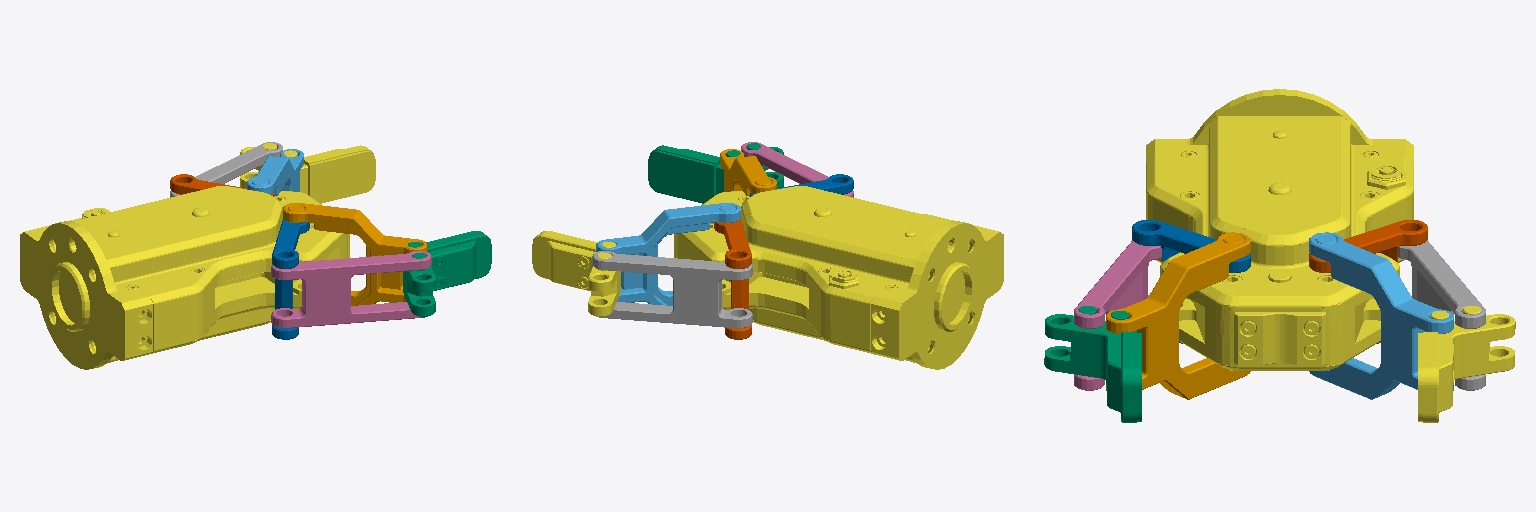
The robot description file, URDF, robot "A02L-MP":
<?xml version="1.0"?>
<!-- ======================================================================== -->
<!-- | Flexiv Rizon4 Arm (with approximated dynamic parameters)             | -->
<!-- ======================================================================== -->
<robot name="A02L-MP">
  <joint name="joint0" type="fixed">
    <origin rpy="0 0 0" xyz="0 0 0" />
    <parent link="world" />
    <child link="base_link" />
  </joint>
  <joint name="joint1" type="revolute">
    <parent link="base_link" />
    <child link="link1" />
    <origin rpy="0 0 3.141592653589793" xyz="0.0 0.0 0.155" />
    <axis xyz="0 0 1" />
    <limit effort="123" lower="-2.7925" upper="2.7925" velocity="2.0944" />
  </joint>
  <joint name="joint2" type="revolute">
    <parent link="link1" />
    <child link="link2" />
    <origin rpy="0 0 0" xyz="0.0 0.03 0.210" />
    <axis xyz="0 1 0" />
    <limit effort="123" lower="-2.2689" upper="2.2689" velocity="2.0944" />
  </joint>
  <joint name="joint3" type="revolute">
    <parent link="link2" />
    <child link="link3" />
    <origin rpy="0 0 0" xyz="0.0 0.035 0.205" />
    <axis xyz="0 0 1" />
    <limit effort="64" lower="-2.9671" upper="2.9671" velocity="2.4435" />
  </joint>
  <joint name="joint4" type="revolute">
    <parent link="link3" />
    <child link="link4" />
    <origin rpy="0 0 -3.141592653589793" xyz="-0.02 -0.03 0.19" />
    <axis xyz="0 1 0" />
    <limit effort="64" lower="-1.8675" upper="2.6878" velocity="2.4435" />
  </joint>
  <joint name="joint5" type="revolute">
    <parent link="link4" />
    <child link="link5" />
    <origin rpy="0 0 -3.141592653589793" xyz="-0.02 0.025 0.195" />
    <axis xyz="0 0 1" />
    <limit effort="39" lower="-2.9671" upper="2.9671" velocity="4.8869" />
  </joint>
  <joint name="joint6" type="revolute">
    <parent link="link5" />
    <child link="link6" />
    <origin rpy="0 0 0" xyz="0.0 0.03 0.19" />
    <axis xyz="0 1 0" />
    <limit effort="39" lower="-1.3963" upper="4.5379" velocity="4.8869" />
  </joint>
  <joint name="joint7" type="revolute">
    <parent link="link6" />
    <child link="link7" />
    <origin rpy="0 -1.5707963267948966 0" xyz="-0.055 0.070 0.11" />
    <axis xyz="0 0 1" />
    <limit effort="39" lower="-2.9671" upper="2.9671" velocity="4.8869" />
  </joint>
  <joint name="link7_to_flange" type="fixed">
    <parent link="link7" />
    <child link="flange" />
    <origin rpy="0 0 -3.141592653589793" xyz="0.0 0.0 0.081" />
  </joint>

  <link name="world" />
  <link name="base_link">
    <inertial>
      <mass value="3.7" />
      <origin rpy="0 0 0" xyz="0.0 -0.0 0.09" />
      <inertia ixx="0.019" ixy="0.0" ixz="0.0" iyy="0.02" iyz="0.0" izz="0.009" />
    </inertial>
    <visual>
      <origin rpy="0 0 0" xyz="0 0 0" />
      <geometry>
        <mesh filename="package://flexiv_meshes/visual/link0.stl" />
      </geometry>
      <material name="rizon_light_grey" />
    </visual>
    <collision>
      <origin rpy="0 0 0" xyz="0 0 0" />
      <geometry>
        <mesh filename="package://flexiv_meshes/collision/link0.stl" />
      </geometry>
    </collision>
  </link>
  <link name="link1">
    <inertial>
      <mass value="3.7" />
      <origin rpy="0 0 0" xyz="0.0 0.01 0.15" />
      <inertia ixx="0.028" ixy="0.0" ixz="0.0" iyy="0.027" iyz="0.002" izz="0.008" />
    </inertial>
    <visual>
      <origin rpy="0 0 0" xyz="0 0 0" />
      <geometry>
        <mesh filename="package://flexiv_meshes/visual/link1.stl" />
      </geometry>
      <material name="rizon_light_grey" />
    </visual>
    <collision>
      <origin rpy="0 0 0" xyz="0 0 0" />
      <geometry>
        <mesh filename="package://flexiv_meshes/collision/link1.stl" />
      </geometry>
    </collision>
  </link>
  <link name="link2">
    <inertial>
      <mass value="2.7" />
      <origin rpy="0 0 0" xyz="0.0 0.04 0.1" />
      <inertia ixx="0.023" ixy="0.0" ixz="0.0" iyy="0.024" iyz="-0.0" izz="0.004" />
    </inertial>
    <visual>
      <origin rpy="0 0 0" xyz="0 0 0" />
      <geometry>
        <mesh filename="package://flexiv_meshes/visual/link2.stl" />
      </geometry>
      <material name="rizon_light_grey" />
    </visual>
    <collision>
      <origin rpy="0 0 0" xyz="0 0 0" />
      <geometry>
        <mesh filename="package://flexiv_meshes/collision/link2.stl" />
      </geometry>
    </collision>
  </link>
  <link name="link3">
    <inertial>
      <mass value="2.4" />
      <origin rpy="0 0 0" xyz="-0.01 -0.0 0.13" />
      <inertia ixx="0.014" ixy="0.0" ixz="-0.001" iyy="0.014" iyz="-0.001" izz="0.004" />
    </inertial>
    <visual>
      <origin rpy="0 0 0" xyz="0 0 0" />
      <geometry>
        <mesh filename="package://flexiv_meshes/visual/link3.stl" />
      </geometry>
      <material name="rizon_light_grey" />
    </visual>
    <collision>
      <origin rpy="0 0 0" xyz="0 0 0" />
      <geometry>
        <mesh filename="package://flexiv_meshes/collision/link3.stl" />
      </geometry>
    </collision>
  </link>
  <link name="link4">
    <inertial>
      <mass value="2.4" />
      <origin rpy="0 0 0" xyz="-0.01 0.03 0.1" />
      <inertia ixx="0.018" ixy="0.0" ixz="-0.002" iyy="0.019" iyz="-0.001" izz="0.003" />
    </inertial>
    <visual>
      <origin rpy="0 0 0" xyz="0 0 0" />
      <geometry>
        <mesh filename="package://flexiv_meshes/visual/link4.stl" />
      </geometry>
      <material name="rizon_light_grey" />
    </visual>
    <collision>
      <origin rpy="0 0 0" xyz="0 0 0" />
      <geometry>
        <mesh filename="package://flexiv_meshes/collision/link4.stl" />
      </geometry>
    </collision>
  </link>
  <link name="link5">
    <inertial>
      <mass value="2.4" />
      <origin rpy="0 0 0" xyz="0.0 0.0 0.13" />
      <inertia ixx="0.014" ixy="0.0" ixz="0.0" iyy="0.013" iyz="0.001" izz="0.004" />
    </inertial>
    <visual>
      <origin rpy="0 0 0" xyz="0 0 0" />
      <geometry>
        <mesh filename="package://flexiv_meshes/visual/link5.stl" />
      </geometry>
      <material name="rizon_light_grey" />
    </visual>
    <collision>
      <origin rpy="0 0 0" xyz="0 0 0" />
      <geometry>
        <mesh filename="package://flexiv_meshes/collision/link5.stl" />
      </geometry>
    </collision>
  </link>
  <link name="link6">
    <inertial>
      <mass value="2.1" />
      <origin rpy="0 0 0" xyz="-0.01 0.06 0.07" />
      <inertia ixx="0.008" ixy="-0.0" ixz="-0.001" iyy="0.009" iyz="0.002" izz="0.004" />
    </inertial>
    <visual>
      <origin rpy="0 0 0" xyz="0 0 0" />
      <geometry>
        <mesh filename="package://flexiv_meshes/visual/link6.stl" />
      </geometry>
      <material name="rizon_light_grey" />
    </visual>
    <collision>
      <origin rpy="0 0 0" xyz="0 0 0" />
      <geometry>
        <mesh filename="package://flexiv_meshes/collision/link6.stl" />
      </geometry>
    </collision>
  </link>
  <link name="link7">
    <inertial>
      <mass value="0.8" />
      <origin rpy="0 0 0" xyz="0.0 0.0 0.03" />
      <inertia ixx="0.001" ixy="0.0" ixz="0.0" iyy="0.001" iyz="0.0" izz="0.001" />
    </inertial>
    <visual>
      <origin rpy="0 0 0" xyz="0 0 0" />
      <geometry>
        <mesh filename="package://flexiv_meshes/visual/link7.stl" />
      </geometry>
      <material name="rizon_light_grey" />
    </visual>
    <collision>
      <origin rpy="0 0 0" xyz="0 0 0" />
      <geometry>
        <mesh filename="package://flexiv_meshes/collision/link7.stl" />
      </geometry>
    </collision>
  </link>
  <link name="flange" />
  <joint name="flange_fixed" type="fixed">
        <origin rpy="0 0 1.5707" xyz="0 0 0" />
        <parent link="flange" />
        <child link="gripper_root_link" />
  </joint>
	<link name="gripper_root_link" />
	<joint name="rightgripper_base_joint" type="fixed">
	<parent link="gripper_root_link" />
	<child link="rightgripper_base_link" />
	<origin rpy="0 0 0" xyz="0 0 0" />
	</joint>
	<link name="rightgripper_base_link">
	<visual>
	    <geometry>
		<mesh filename="package://DH_gripper_meshes/dhag95/visual/base_link.STL" scale="0.001 0.001 0.001" />
	    </geometry>
	</visual>
	<collision>
	    <geometry>
		<mesh filename="package://DH_gripper_meshes/dhag95/visual/base_link.STL" scale="0.001 0.001 0.001" />
	    </geometry>
	</collision>
	<inertial>
	    <mass value="0.83416" />
	    <origin xyz="0.0 0.0 0.0" rpy="0 0 0" />
	    <inertia ixx="0.0013016" ixy="-6.9374e-07" ixz="5.9848e-07" iyx="0.000000" iyy="0.00049972" iyz="2.0244E-07" izx="0.000000" izy="0.000000" izz="0.001498" />
	</inertial>
	</link>

	<joint name="rightgripper_finger1_joint" type="revolute">
	<parent link="rightgripper_base_link" />
	<child link="rightgripper_finger1_knuckle_link" />
	<axis xyz="0 -1 0" />
	<origin rpy="0.0 0.0 3.141592653589793" xyz="-0.016 0 0.10586" />
	<limit effort="1000" lower="0.0" upper="0.65" velocity="2.0" />
	</joint>
	<joint name="rightgripper_finger2_joint" type="revolute">
	<parent link="rightgripper_base_link" />
	<child link="rightgripper_finger2_knuckle_link" />
	<axis xyz="0 -1 0" />
	<origin rpy="0.0 0.0 0.0" xyz="0.016  0 0.10586 " />
	<limit effort="1000" lower="-3.14" upper="3.14" velocity="100.0" />
	<mimic joint="rightgripper_finger1_joint" />
	</joint>
	<link name="rightgripper_finger1_knuckle_link">
	<visual>
	    <geometry>
		<mesh filename="package://DH_gripper_meshes/dhag95/visual/crank_Link.STL" scale="0.001 0.001 0.001" />
	    </geometry>
	</visual>
	<collision>
	    <geometry>
		<mesh filename="package://DH_gripper_meshes/dhag95/visual/crank_Link.STL" scale="0.001 0.001 0.001" />
	    </geometry>
	</collision>
	<inertial>
	    <mass value="0.011111" />
	    <origin xyz="0.0 0.0 0.0" rpy="0 0 0" />
	    <inertia ixx="3.88172e-06" ixy="-2.29456e-13" ixz="8.33e-07" iyx="0.000000" iyy="1.92174e-06" iyz="2.04435e-13" izx="0.000000" izy="0.000000" izz="4.32374e-06" />
	</inertial>
	</link>

	<link name="rightgripper_finger2_knuckle_link">
	<visual>
	    <geometry>
		<mesh filename="package://DH_gripper_meshes/dhag95/visual/crank_Link.STL" scale="0.001 0.001 0.001" />
	    </geometry>
	</visual>
	<collision>
	    <geometry>
		<mesh filename="package://DH_gripper_meshes/dhag95/visual/crank_Link.STL" scale="0.001 0.001 0.001" />
	    </geometry>
	</collision>
	<inertial>
	    <mass value="0.011111" />
	    <origin xyz="0.0 0.0 0.0" rpy="0 0 0" />
	    <inertia ixx="3.88172e-06" ixy="-2.29456e-13" ixz="8.33e-07" iyx="0.000000" iyy="1.92174e-06" iyz="2.04435e-13" izx="0.000000" izy="0.000000" izz="4.32374e-06" />
	</inertial>
	</link>

	<joint name="rightgripper_finger1_finger_joint" type="continuous">
	<parent link="rightgripper_finger1_knuckle_link" />
	<child link="rightgripper_finger1_finger_link" />
	<axis xyz="0 -1 0" />
	<origin rpy="0 0 0" xyz="0.0292080077784 0.0 -0.0227132622407" />
	<limit effort="0.1" lower="-3.14" upper="3.14" velocity="100.0" />
	<mimic joint="rightgripper_finger1_joint" multiplier="0.4563942" offset="0" />
	</joint>
	<joint name="rightgripper_finger2_finger_joint" type="continuous">
	<parent link="rightgripper_finger2_knuckle_link" />
	<child link="rightgripper_finger2_finger_link" />
	<axis xyz="0 -1 0" />
	<origin rpy="0 0 0" xyz="0.0292080077784 0.0 -0.0227132622407" />
	<limit effort="0.1" lower="-3.14" upper="3.14" velocity="100.0" />
	<mimic joint="rightgripper_finger1_joint" multiplier="0.4563942" offset="0" />
	</joint>
	<link name="rightgripper_finger1_finger_link">
	<visual>
	    <geometry>
		<mesh filename="package://DH_gripper_meshes/dhag95/visual/rod_Link.STL" scale="0.001 0.001 0.001" />
	    </geometry>
	</visual>
	<collision>
	    <geometry>
		<mesh filename="package://DH_gripper_meshes/dhag95/visual/rod_Link.STL" scale="0.001 0.001 0.001" />
	    </geometry>
	</collision>
	<inertial>
	    <mass value="0.0222871" />
	    <origin xyz="0.0 0.0 0.0" rpy="0 0 0" />
	    <inertia ixx="8.72836e-06" ixy="7.0843e-15" ixz="-2.18833e-06" iyx="-0.000002" iyy="7.26157e-06" iyz="7.6579e-15" izx="0.000000" izy="0.000000" izz="3.3425e-06" />
	</inertial>
	</link>
	<link name="rightgripper_finger2_finger_link">
	<visual>
	    <geometry>
		<mesh filename="package://DH_gripper_meshes/dhag95/visual/rod_Link.STL" scale="0.001 0.001 0.001" />
	    </geometry>
	</visual>
	<collision>
	    <geometry>
		<mesh filename="package://DH_gripper_meshes/dhag95/visual/rod_Link.STL" scale="0.001 0.001 0.001" />
	    </geometry>
	</collision>
	<inertial>
	    <mass value="0.0222871" />
	    <origin xyz="0.0 0.0 0.0" rpy="0 0 0" />
	    <inertia ixx="8.72836e-06" ixy="7.0843e-15" ixz="-2.18833e-06" iyx="-0.000002" iyy="7.26157e-06" iyz="7.6579e-15" izx="0.000000" izy="0.000000" izz="3.3425e-06" />
	</inertial>
	</link>

	<joint name="rightgripper_finger1_inner_knuckle_joint" type="continuous">
	<parent link="rightgripper_base_link" />
	<child link="rightgripper_finger1_inner_knuckle_link" />
	<axis xyz="0 -1 0" />
	<origin rpy="0.0 0.0 3.141592653589793" xyz="-0.016 0 0.10586" />
	<limit effort="0.1" lower="-3.14" upper="3.14" velocity="100.0" />
	<mimic joint="rightgripper_finger1_joint" multiplier="1.49462955" offset="0" />
	</joint>
	<joint name="rightgripper_finger2_inner_knuckle_joint" type="continuous">
	<parent link="rightgripper_base_link" />
	<child link="rightgripper_finger2_inner_knuckle_link" />
	<axis xyz="0 -1 0" />
	<origin rpy="0.0 0.0 0.0" xyz="0.016 0 0.10586" />
	<limit effort="0.1" lower="-3.14" upper="3.14" velocity="100.0" />
	<mimic joint="rightgripper_finger1_joint" multiplier="1.49462955" offset="0" />
	</joint>
	<link name="rightgripper_finger1_inner_knuckle_link">
	<visual>
	    <geometry>
		<mesh filename="package://DH_gripper_meshes/dhag95/visual/proximal_phalanx_Link.STL" scale="0.001 0.001 0.001" />
	    </geometry>
	</visual>
	<collision>
	    <geometry>
		<mesh filename="package://DH_gripper_meshes/dhag95/visual/proximal_phalanx_Link.STL" scale="0.001 0.001 0.001" />
	    </geometry>
	</collision>
	<inertial>
	    <mass value="0.0318004" />
	    <origin xyz="0.0 0.0 0.0" rpy="0 0 0" />
	    <inertia ixx="1.39848e-05" ixy="-9.54763e-15" ixz="-5.01422e-06" iyx="0.000000" iyy="1.04943e-05" iyz="8.94585e-16" izx="0.000000" izy="0.000000" izz="1.36183e-05" />
	</inertial>
	</link>

	<link name="rightgripper_finger2_inner_knuckle_link">
	<visual>
	    <geometry>
		<mesh filename="package://DH_gripper_meshes/dhag95/visual/proximal_phalanx_Link.STL" scale="0.001 0.001 0.001" />
	    </geometry>
	</visual>
	<collision>
	    <geometry>
		<mesh filename="package://DH_gripper_meshes/dhag95/visual/proximal_phalanx_Link.STL" scale="0.001 0.001 0.001" />
	    </geometry>
	</collision>
	<inertial>
	    <mass value="0.0318004" />
	    <origin xyz="0.0 0.0 0.0" rpy="0 0 0" />
	    <inertia ixx="1.39848e-05" ixy="-9.54763e-15" ixz="-5.01422e-06" iyx="0.000000" iyy="1.04943e-05" iyz="8.94585e-16" izx="0.000000" izy="0.000000" izz="1.36183e-05" />
	</inertial>
	</link>

	<joint name="rightgripper_finger1_finger_tip_joint" type="continuous">
	<parent link="rightgripper_finger1_inner_knuckle_link" />
	<child link="rightgripper_finger1_finger_tip_link" />
	<axis xyz="0 1 0" />
	<origin rpy="0.0 0.0 0.0" xyz="0.0394969463769 0.0 0.0382752038125 " />
	<limit effort="0.1" lower="-3.14" upper="3.14" velocity="100.0" />
	<mimic joint="rightgripper_finger1_joint" multiplier="1.49462955" />
	</joint>
	<joint name="rightgripper_finger2_finger_tip_joint" type="continuous">
	<parent link="rightgripper_finger2_inner_knuckle_link" />
	<child link="rightgripper_finger2_finger_tip_link" />
	<axis xyz="0 1 0" />
	<origin rpy="0.0 0.0 0.0" xyz="0.0394969463769  0.0 0.0382752038125  " />
	<limit effort="0.1" lower="-3.14" upper="3.14" velocity="100.0" />
	<mimic joint="rightgripper_finger1_joint" multiplier="1.49462955" />
	</joint>
	<link name="rightgripper_finger1_finger_tip_link">
	<visual>
	    <geometry>
		<mesh filename="package://DH_gripper_meshes/dhag95/visual/distal_phalanx_Link.STL" scale="0.001 0.001 0.001" />
	    </geometry>
	</visual>
	<collision>
	    <geometry>
		<mesh filename="package://DH_gripper_meshes/dhag95/visual/distal_phalanx_Link.STL" scale="0.001 0.001 0.001" />
	    </geometry>
	</collision>
	<inertial>
	    <mass value="0.0124305" />
	    <origin xyz="0.0 0.0 0.0" rpy="0 0 0" />
	    <inertia ixx="2.84217e-06" ixy="-2.48048e-15" ixz="8.24539e-07" iyx="0.000000" iyy="3.03961e-06" iyz="2.16427e-13" izx="0.000000" izy="0.000000" izz="1.11815e-06" />
	</inertial>
	</link>
	<link name="rightgripper_finger2_finger_tip_link">
	<visual>
	    <geometry>
		<mesh filename="package://DH_gripper_meshes/dhag95/visual/distal_phalanx_Link.STL" scale="0.001 0.001 0.001" />
	    </geometry>
	</visual>
	<collision>
	    <geometry>
		<mesh filename="package://DH_gripper_meshes/dhag95/visual/distal_phalanx_Link.STL" scale="0.001 0.001 0.001" />
	    </geometry>
	</collision>
	<inertial>
	    <mass value="0.0124305" />
	    <origin xyz="0.0 0.0 0.0" rpy="0 0 0" />
	    <inertia ixx="2.84217e-06" ixy="-2.48048e-15" ixz="8.24539e-07" iyx="0.000000" iyy="3.03961e-06" iyz="2.16427e-13" izx="0.000000" izy="0.000000" izz="1.11815e-06" />
	</inertial>
	</link>
  <!-- material -->
  <material name="rizon_blue">
    <color rgba="0. 0. 1. 0.5" />
  </material>
  <material name="rizon_light_grey">
    <color rgba="0.7 0.7 0.7 1" />
  </material>
  <material name="rizon_dark_grey">
    <color rgba="0.2 0.2 0.2 1" />
  </material>
  <material name="rizon_white">
    <color rgba="1 1 1 1" />
  </material>
</robot>

--- What the picture shows (computed from the rendered views, not written in the file) ---
Views: 3 orthographic renders of the robot side by side, from view 1: azimuth 30°, elevation 25°; view 2: azimuth 150°, elevation 25°; view 3: azimuth 270°, elevation 25°.
Model A02L-MP with 20 links and 19 joints (9 revolute, 6 continuous, 4 fixed), rooted at world, posed every joint at zero.
Links seen in each view (by area): view 1: rightgripper_base_link, rightgripper_finger1_finger_link, rightgripper_finger1_inner_knuckle_link, rightgripper_finger1_finger_tip_link, rightgripper_finger2_finger_tip_link, rightgripper_finger1_knuckle_link, rightgripper_finger2_inner_knuckle_link, rightgripper_finger2_finger_link, rightgripper_finger2_knuckle_link; view 2: rightgripper_base_link, rightgripper_finger2_finger_link, rightgripper_finger2_inner_knuckle_link, rightgripper_finger2_finger_tip_link, rightgripper_finger1_finger_tip_link, rightgripper_finger2_knuckle_link, rightgripper_finger1_inner_knuckle_link, rightgripper_finger1_finger_link, rightgripper_finger1_knuckle_link; view 3: rightgripper_base_link, rightgripper_finger2_inner_knuckle_link, rightgripper_finger1_inner_knuckle_link, rightgripper_finger2_finger_tip_link, rightgripper_finger1_finger_tip_link, rightgripper_finger1_finger_link, rightgripper_finger2_finger_link, rightgripper_finger2_knuckle_link, rightgripper_finger1_knuckle_link.
Link boxes in pixels (x1,y1,x2,y2): rightgripper_base_link: (20,186,349,369); rightgripper_finger1_finger_link: (271,250,431,327); rightgripper_finger1_inner_knuckle_link: (283,203,427,305); rightgripper_finger1_finger_tip_link: (403,231,491,316); rightgripper_finger2_finger_tip_link: (240,143,375,203); rightgripper_finger1_knuckle_link: (272,219,309,339); rightgripper_finger2_inner_knuckle_link: (247,149,303,195); rightgripper_finger2_finger_link: (170,142,282,197); rightgripper_finger2_knuckle_link: (170,174,273,196); rightgripper_base_link: (674,186,1003,369); rightgripper_finger2_finger_link: (592,251,752,327); rightgripper_finger2_inner_knuckle_link: (596,203,740,305); rightgripper_finger2_finger_tip_link: (532,231,620,316); rightgripper_finger1_finger_tip_link: (648,143,783,203); rightgripper_finger2_knuckle_link: (714,219,751,339); rightgripper_finger1_inner_knuckle_link: (720,149,776,195); rightgripper_finger1_finger_link: (741,142,853,197); rightgripper_finger1_knuckle_link: (750,174,853,196); rightgripper_base_link: (1146,89,1413,370); rightgripper_finger2_inner_knuckle_link: (1309,232,1453,399); rightgripper_finger1_inner_knuckle_link: (1106,232,1250,399); rightgripper_finger2_finger_tip_link: (1418,306,1515,422); rightgripper_finger1_finger_tip_link: (1044,306,1141,422); rightgripper_finger1_finger_link: (1074,240,1161,390); rightgripper_finger2_finger_link: (1398,240,1485,390); rightgripper_finger2_knuckle_link: (1309,220,1427,343); rightgripper_finger1_knuckle_link: (1132,220,1250,343).
Size in the robot's own frame: 0.1876 by 0.1633 by 0.067 metres.
Meshes: 13 distinct files referenced, 9 mesh visuals loaded (5 binary STL); not drawn: 8 (reference not matched to a file when rendering).
